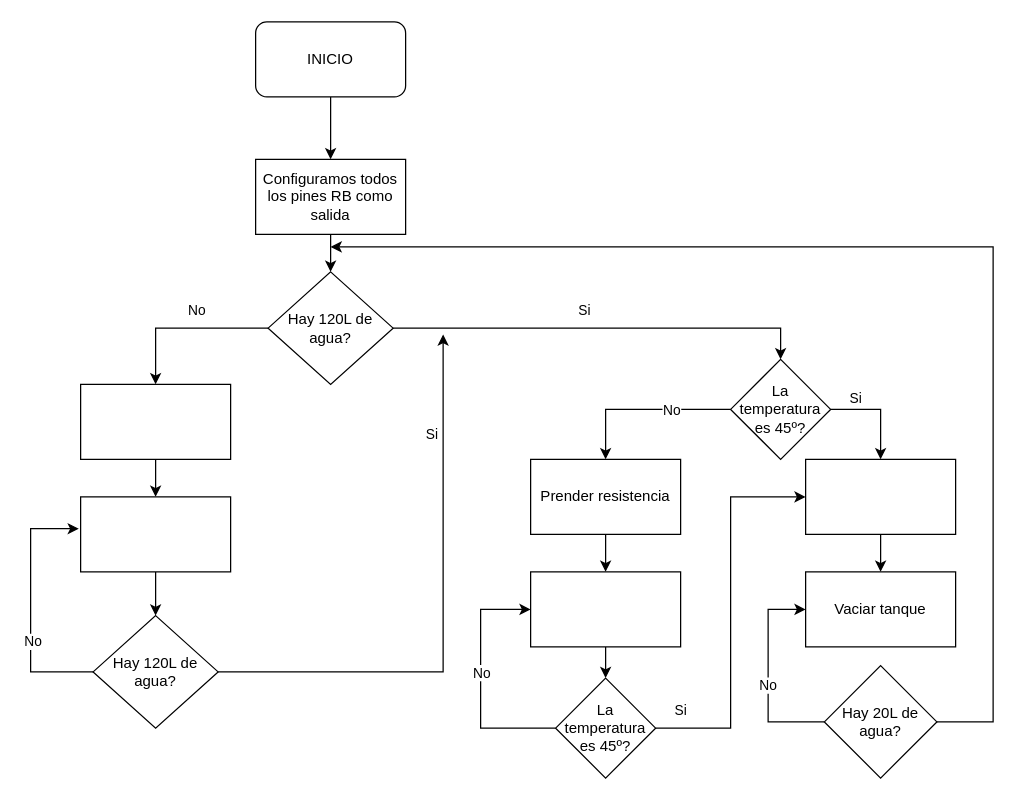
Image size: 1025x800. Some labels were removed from this diagram. The centre of each missing label's shape, as x and y in pixels:
"Abrir canilla" belongs at (880,496).
"Calentar agua" belongs at (605,609).
"Llenar tanque" belongs at (155,534).
"Prender bomba" belongs at (155,421).
